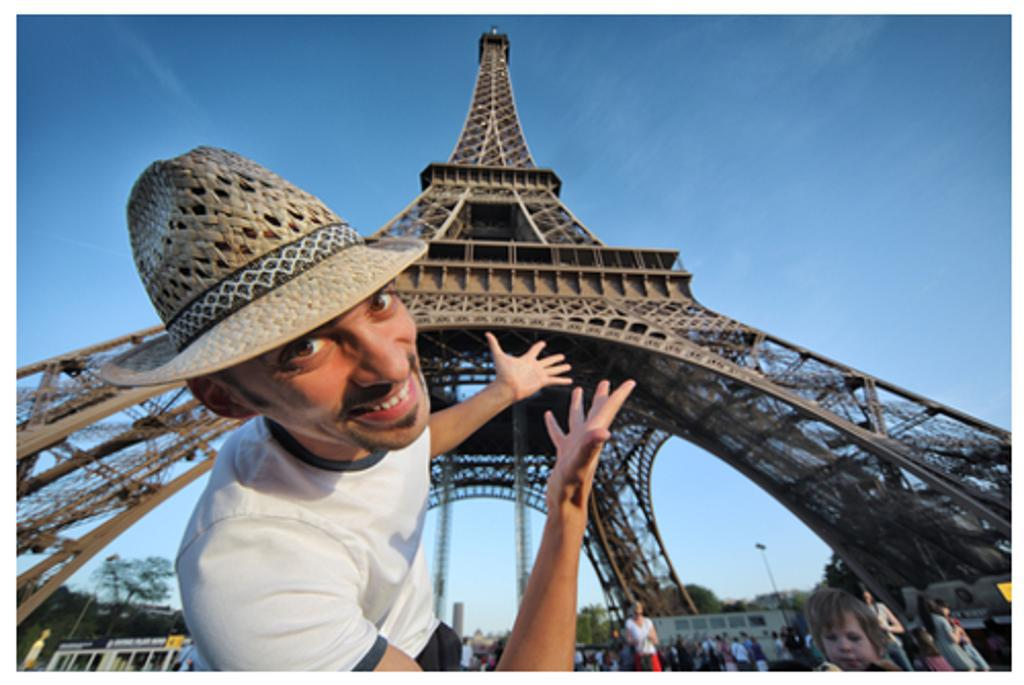face: (247, 287, 431, 445)
